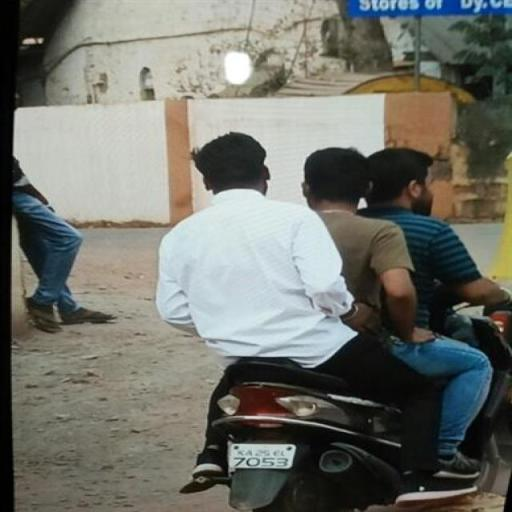tripple riding: (139, 129, 493, 358)
